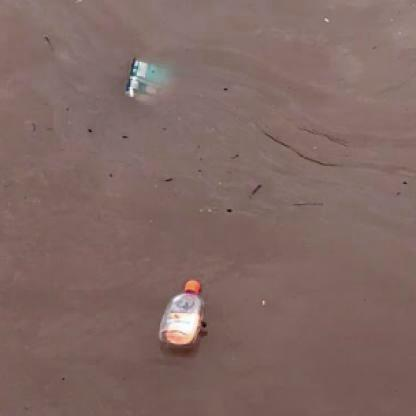Plastic: (155, 276, 208, 353)
Trash: (119, 54, 185, 108)
